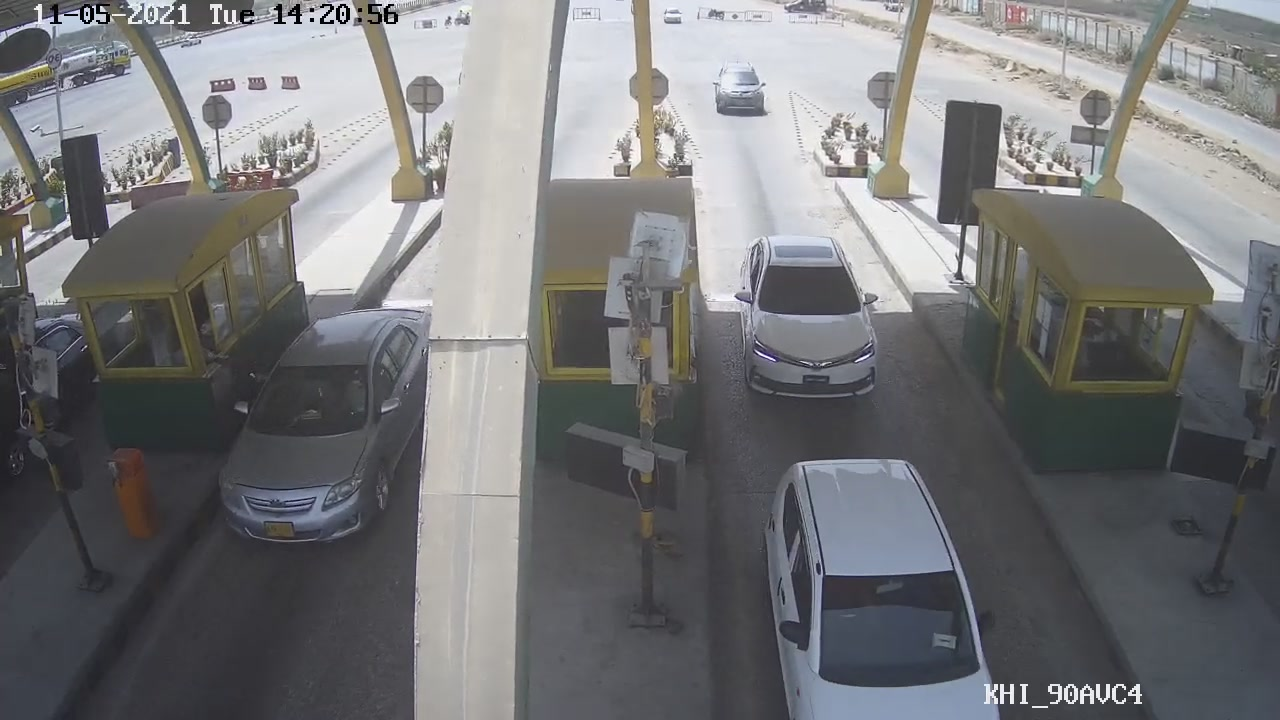F1: (733, 232, 886, 403)
